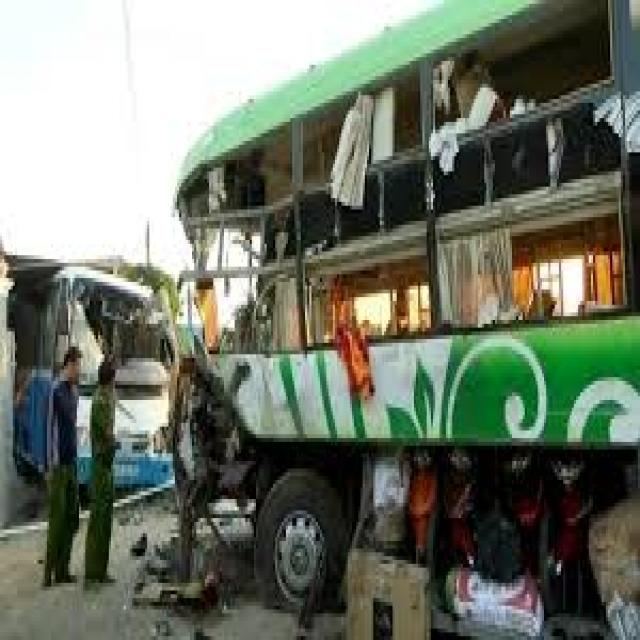accident: (21, 33, 640, 614)
